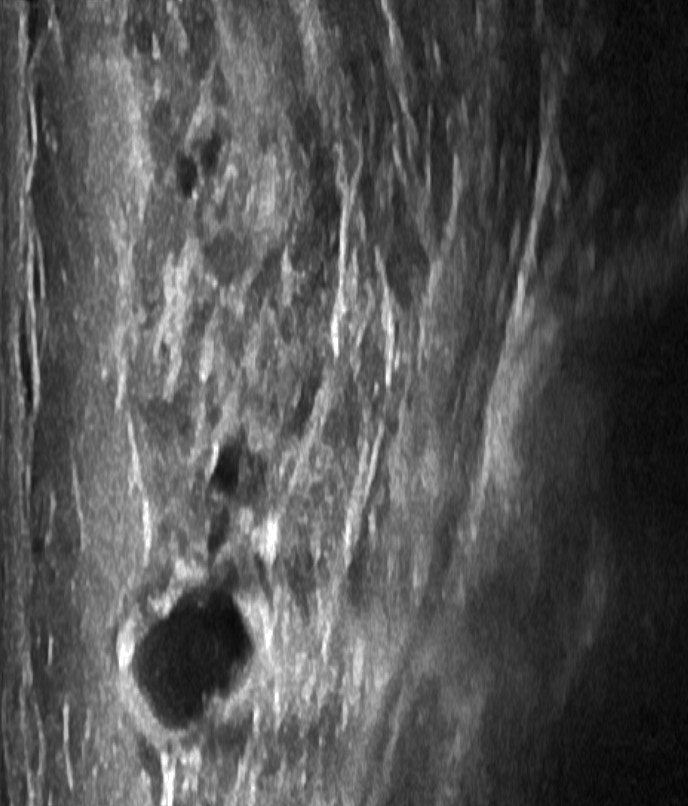Benign: (125, 586, 258, 728)
Normal: (16, 2, 665, 802)
